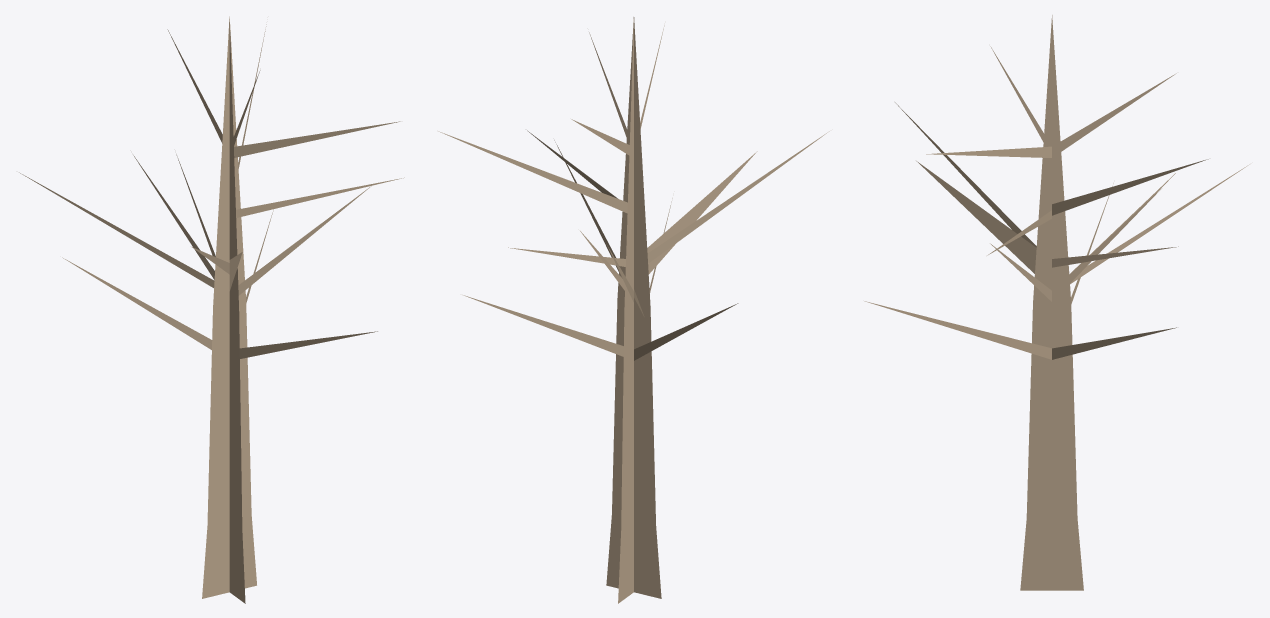
Rendered from tre1.glb.
3 views of the same model, side by side, from view 1: azimuth 30°, elevation 25°; view 2: azimuth 150°, elevation 25°; view 3: azimuth 270°, elevation 25° (orthographic).
Parts seen in each view (by area): view 1: tre1; view 2: tre1; view 3: tre1.
Part boxes in pixels (x1,y1,x2,y2): tre1: (19,16,404,603); tre1: (438,17,829,603); tre1: (864,15,1249,590).
Size of the model in its own units: 3.16 by 6.2 by 3.84.
